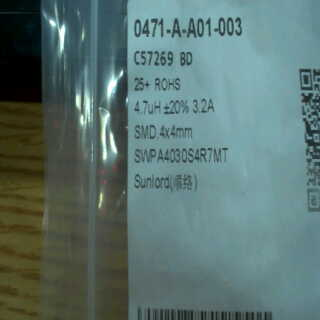4.7uH: (133, 95, 161, 117)
